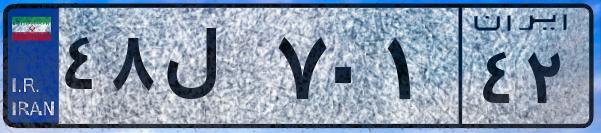0: (330, 28, 385, 110)
1: (385, 28, 445, 110)
2: (525, 38, 570, 115)
4: (57, 26, 110, 100), (475, 38, 525, 113)
7: (270, 28, 330, 110)
8: (110, 28, 158, 98)
ل: (158, 20, 270, 120)
